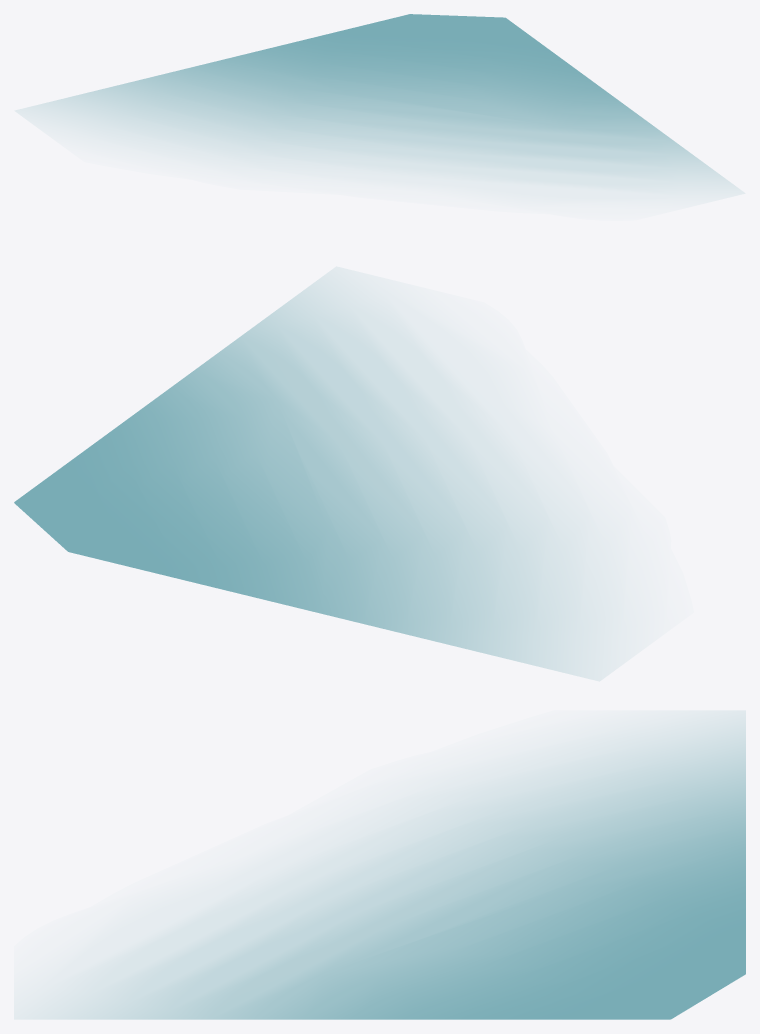
3 renders of one model, top to bottom at view 1: azimuth 30°, elevation 25°; view 2: azimuth 150°, elevation 25°; view 3: azimuth 270°, elevation 25°, orthographic. The views are drawn at different scales.
Visible parts, largest first — view 1: city; view 2: city; view 3: city.
Boxes of the visible parts, x1=… form: city: x1=16, y1=14, x2=743, y2=192; city: x1=14, y1=268, x2=609, y2=680; city: x1=19, y1=711, x2=745, y2=1019.
Bounding box in the file's own units: 500 × 0 × 500.
